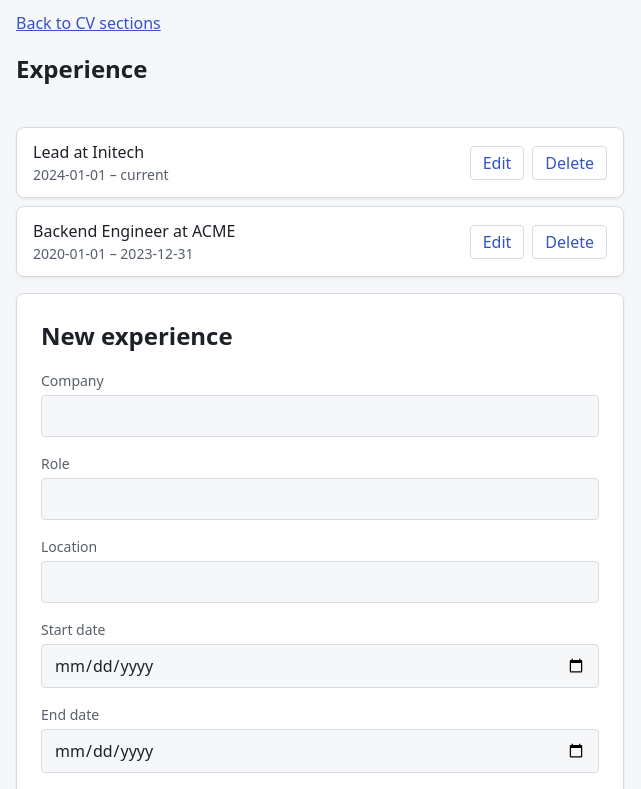
it: ExperiencesPage › a PUT answered 404 (deleted meanwhile) shows an error and leaves no stale row
The image size is (641, 789).
Click the button with aria-label "Edit Backend Engineer at ACME" at (497, 242), box [470,224,524,258]
(page scrolled)
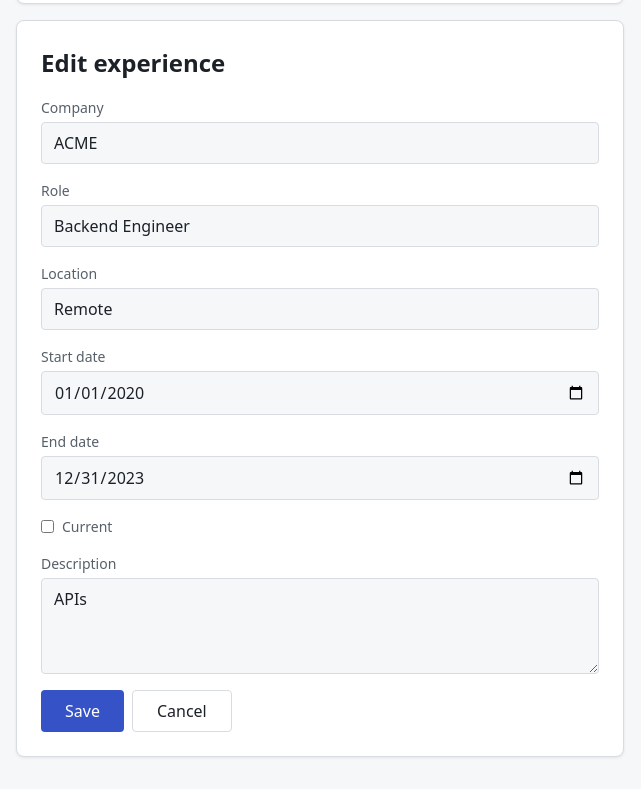
Click the button "Save" at (82, 711), box [41,690,124,732]
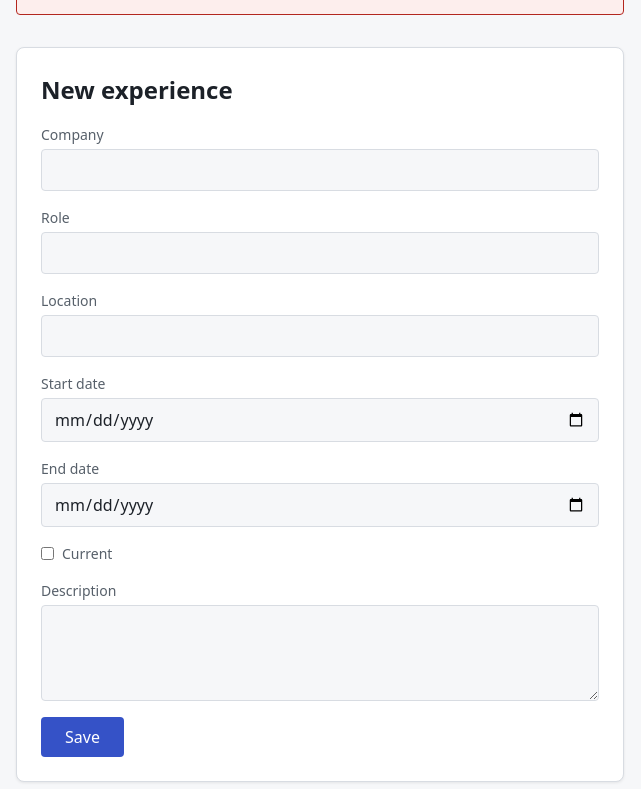
Expected: the heading "New experience" is shown, [41,73,233,106]
